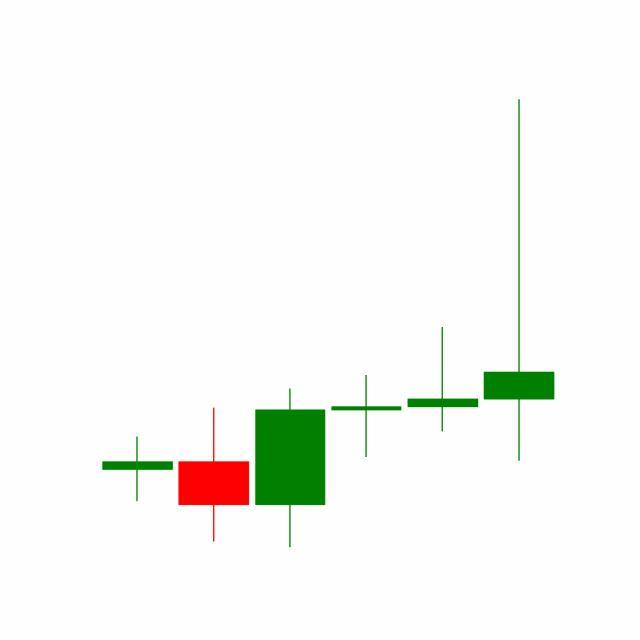Spinning Top: (404, 326, 482, 434)
